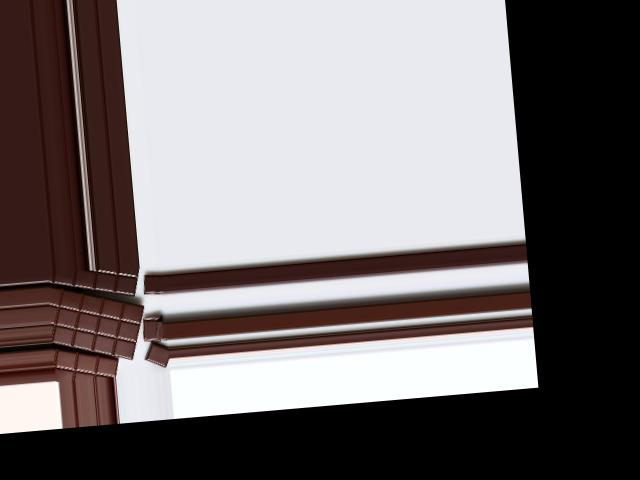chocolate: (46, 281, 147, 368)
